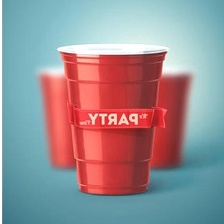glass: (55, 39, 171, 201)
